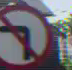Don't turn left: (0, 5, 52, 69)
